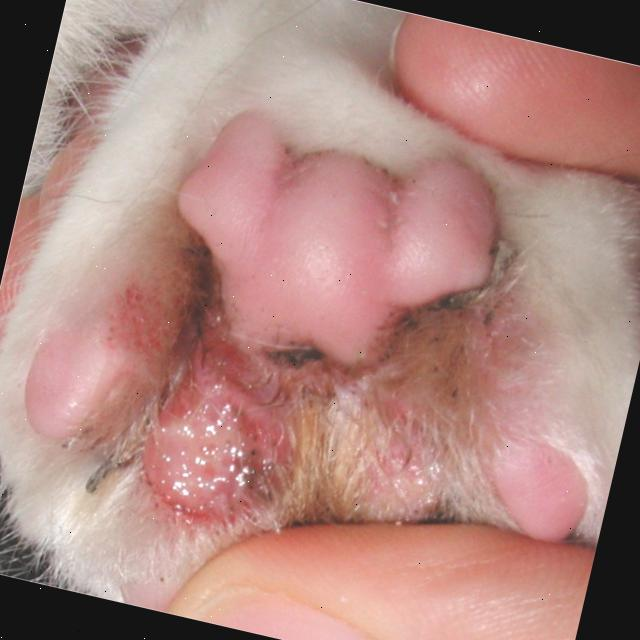cat-lump-and-bump: (140, 365, 282, 523), (352, 407, 446, 508)
